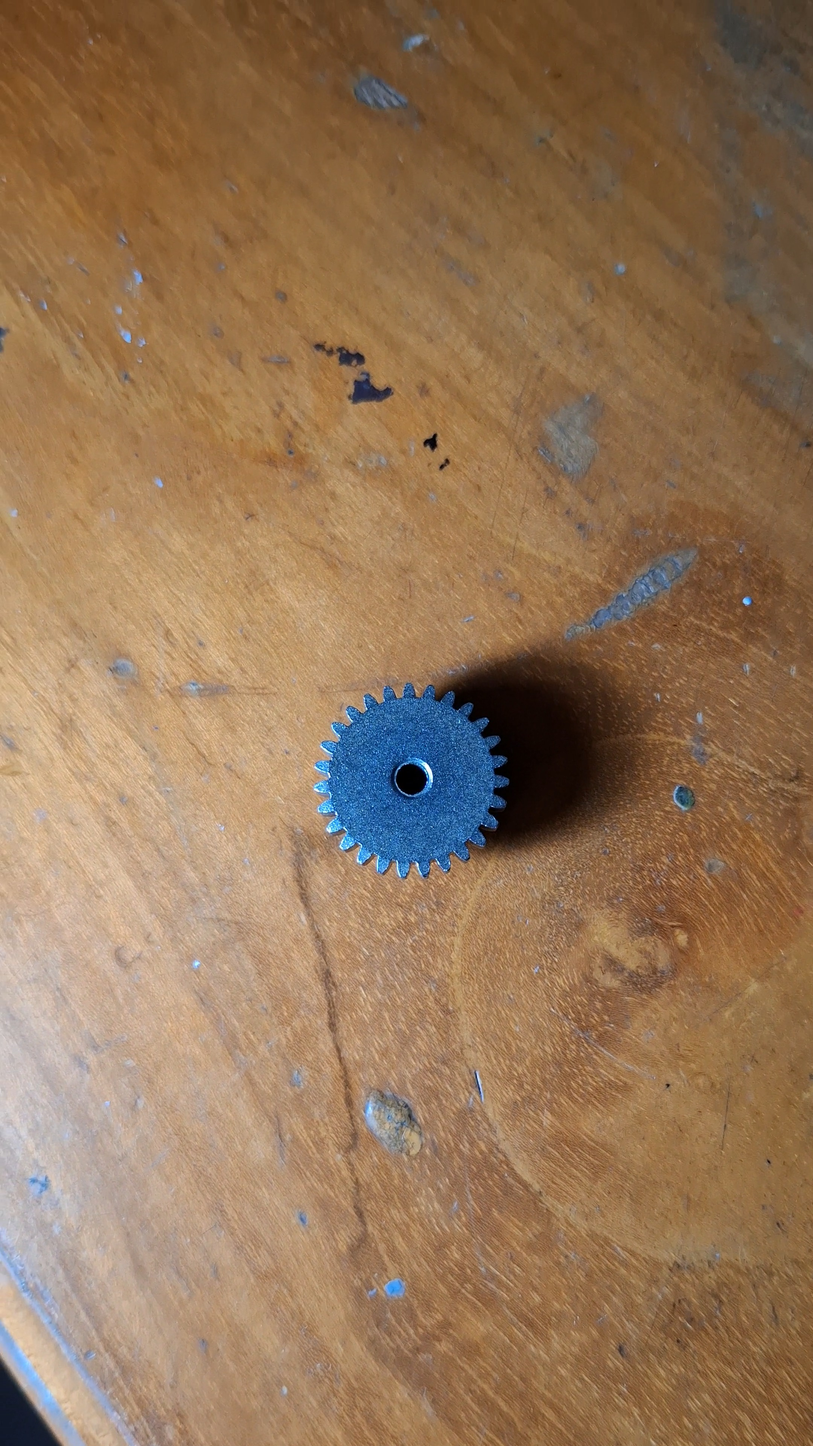spur gear: (315, 685, 508, 877)
